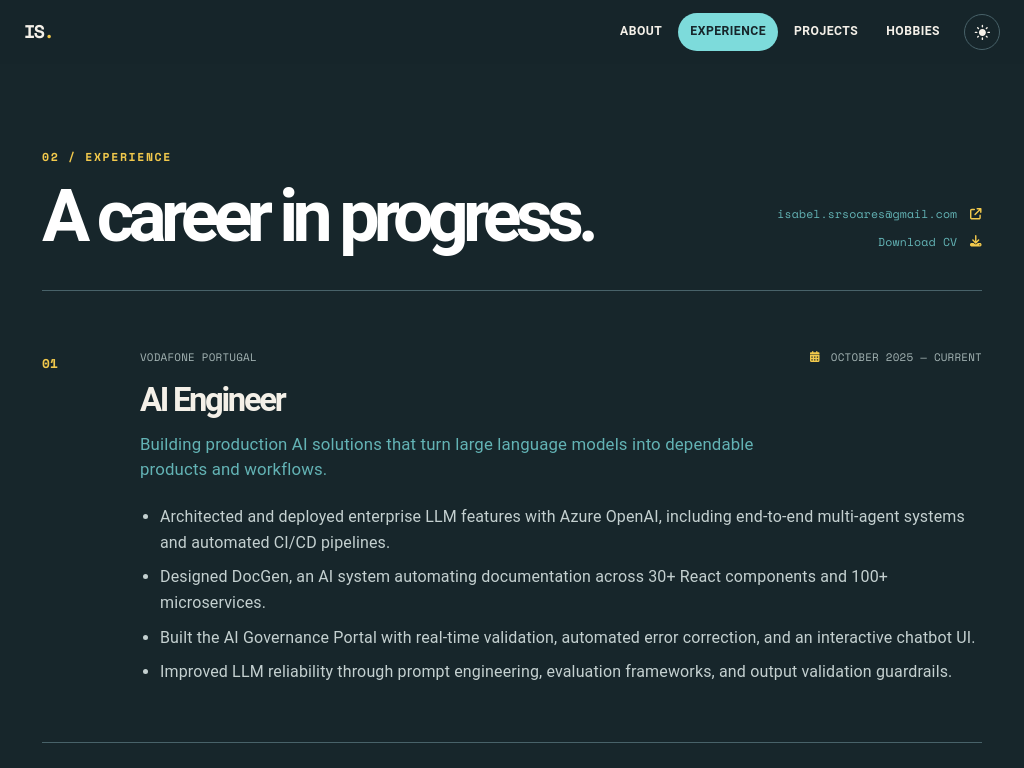
Scenario: keeps an explicit dark preference across route changes
Click the link "Projects". click: (826, 31)
box: [794,24,858,38]
(page scrolled)
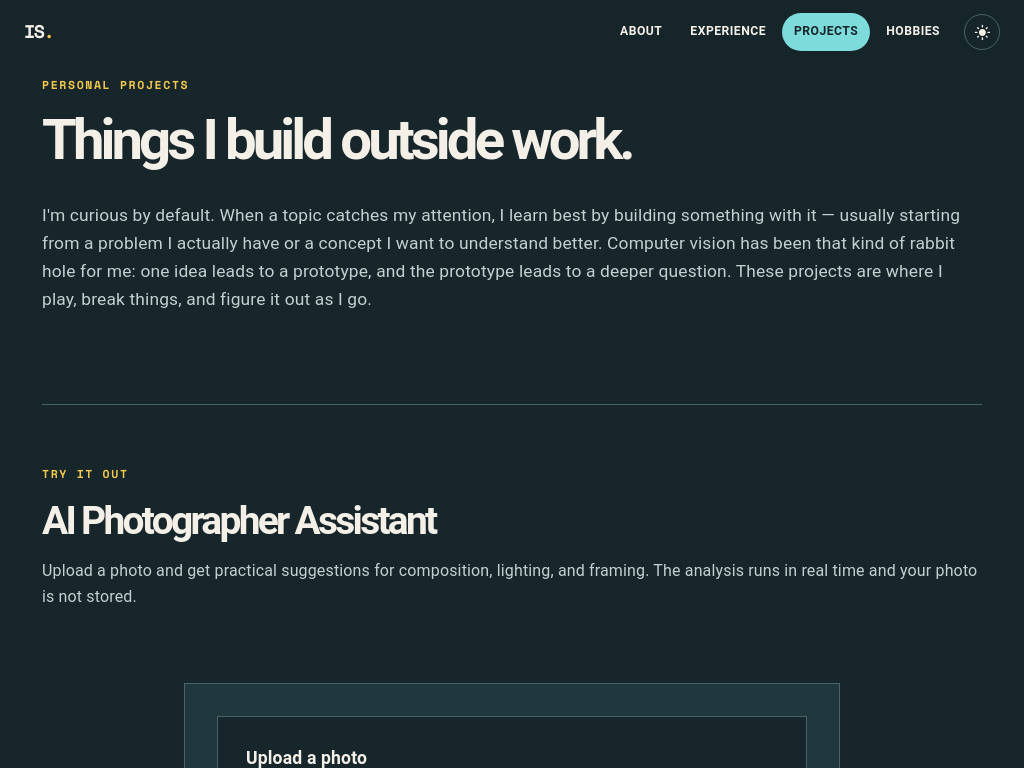
expect the heading "Things I build outside work." is shown: met, box [42,107,632,173]
